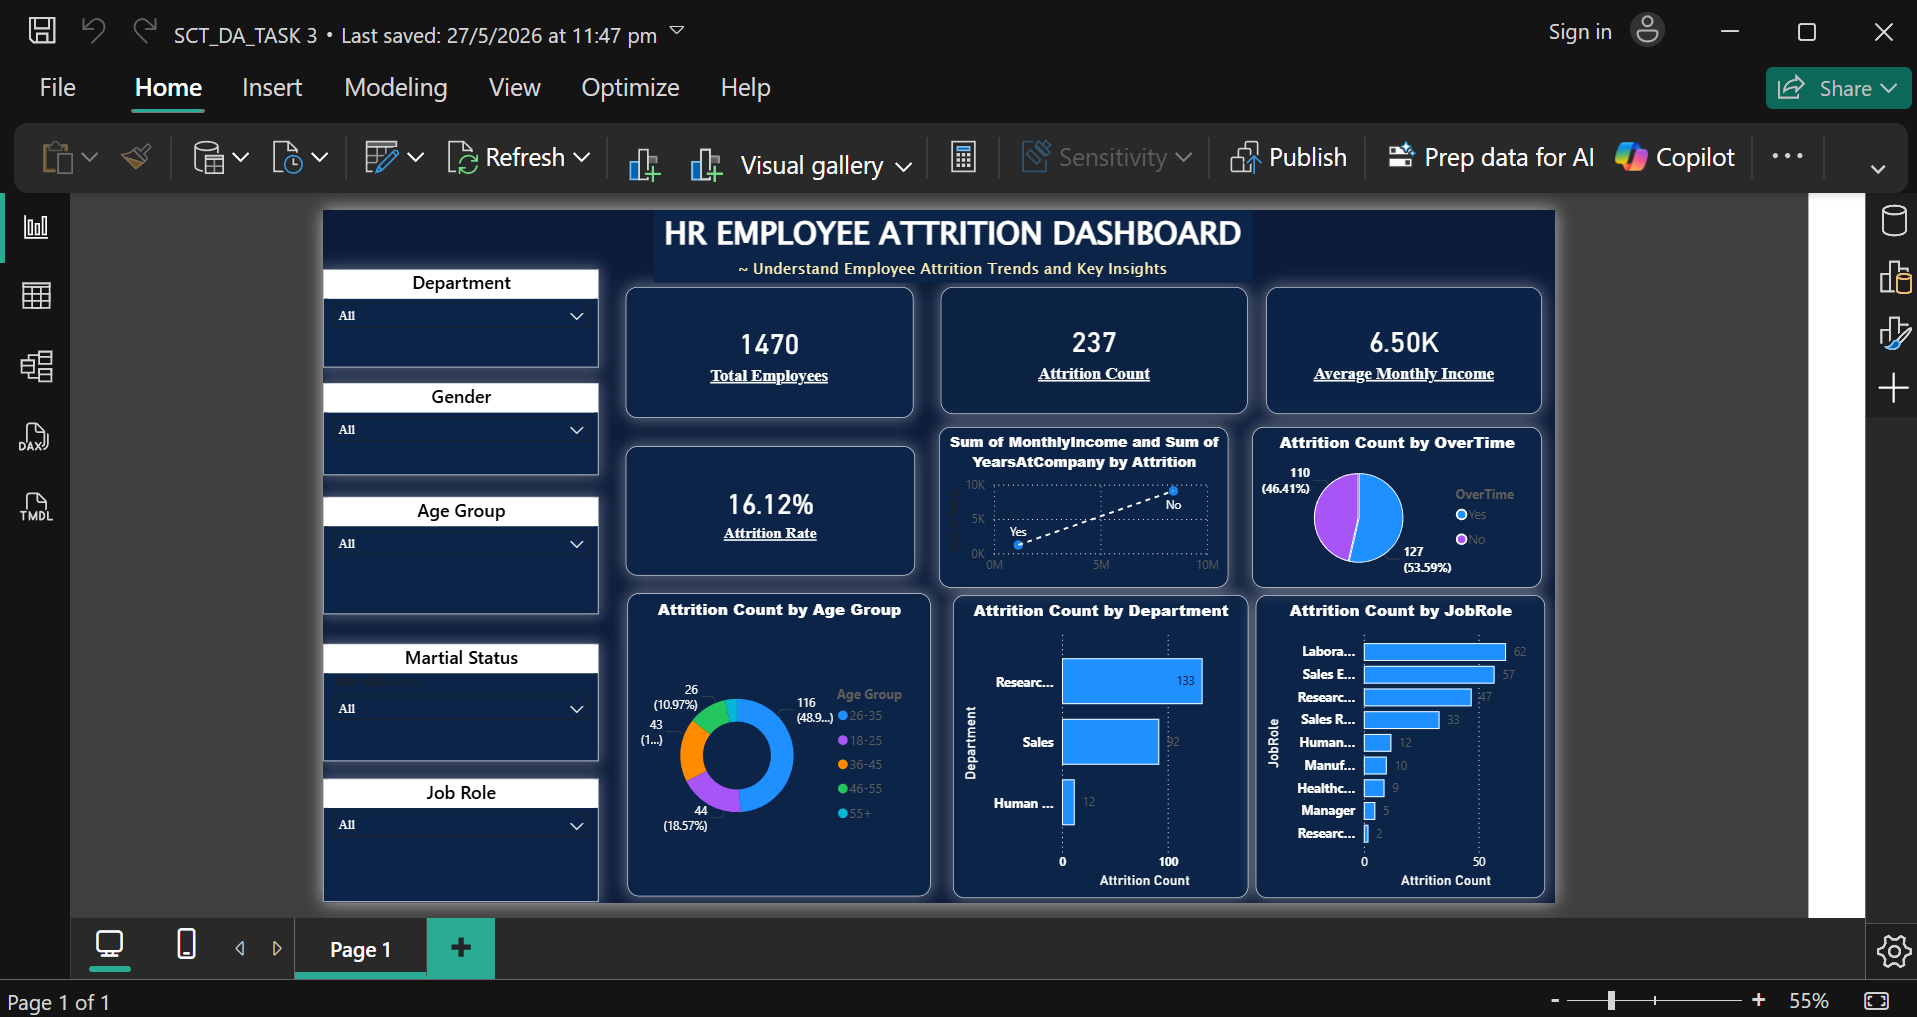

This screenshot's page, from the dashboard's own definition file:
{"tool":"powerbi","page":{"name":"Page 1","canvas":[1280,720],"ordinal":0},"visuals":[{"type":"card","title":"Total Employes","fields":{"Values":["WA_Fn-UseC_-HR-Employee-Attrition.Total Employees"]},"box":[314.9,79.2,298.6,136.1],"z":0},{"type":"card","fields":{"Values":["WA_Fn-UseC_-HR-Employee-Attrition.Attrition Count"]},"box":[641.9,79.2,318.9,132],"z":1000},{"type":"card","fields":{"Values":["WA_Fn-UseC_-HR-Employee-Attrition.Attrition Rate"]},"box":[314.9,245.8,300.7,134.1],"z":2000},{"type":"card","fields":{"Values":["WA_Fn-UseC_-HR-Employee-Attrition.Average Monthly Income"]},"box":[979.2,79.2,286.4,132],"z":3000},{"type":"clusteredBarChart","fields":{"Category":["WA_Fn-UseC_-HR-Employee-Attrition.Department"],"Y":["WA_Fn-UseC_-HR-Employee-Attrition.Attrition Count"]},"box":[654.1,400.2,306.8,314.9],"z":4000},{"type":"donutChart","fields":{"Category":["WA_Fn-UseC_-HR-Employee-Attrition.Age Group"],"Y":["WA_Fn-UseC_-HR-Employee-Attrition.Attrition Count"]},"box":[316.9,398.2,314.9,314.9],"z":5000},{"type":"clusteredBarChart","fields":{"Category":["WA_Fn-UseC_-HR-Employee-Attrition.JobRole"],"Y":["WA_Fn-UseC_-HR-Employee-Attrition.Attrition Count"]},"box":[969,400.2,300.7,314.9],"z":6000},{"type":"pieChart","fields":{"Category":["WA_Fn-UseC_-HR-Employee-Attrition.OverTime"],"Y":["WA_Fn-UseC_-HR-Employee-Attrition.Attrition Count"]},"box":[965,225.5,300.7,166.6],"z":7000},{"type":"scatterChart","fields":{"Category":["WA_Fn-UseC_-HR-Employee-Attrition.Attrition"],"X":["Sum(WA_Fn-UseC_-HR-Employee-Attrition.MonthlyIncome)"],"Y":["Sum(WA_Fn-UseC_-HR-Employee-Attrition.YearsAtCompany)"]},"box":[639.9,225.5,300.7,166.6],"z":8000},{"type":"slicer","title":"Department","fields":{"Values":["WA_Fn-UseC_-HR-Employee-Attrition.Department"]},"box":[0,60.9,286.4,101.6],"z":9000},{"type":"slicer","title":"Gender","fields":{"Values":["WA_Fn-UseC_-HR-Employee-Attrition.Gender"]},"box":[0,180.8,286.4,95.5],"z":10000},{"type":"slicer","title":"Age Group","fields":{"Values":["WA_Fn-UseC_-HR-Employee-Attrition.Age Group"]},"box":[0,298.6,286.4,121.9],"z":11000},{"type":"slicer","title":"Job Role","fields":{"Values":["WA_Fn-UseC_-HR-Employee-Attrition.JobRole"]},"box":[0,591.2,286.4,128],"z":12000},{"type":"slicer","title":"Martial Status","fields":{"Values":["WA_Fn-UseC_-HR-Employee-Attrition.MaritalStatus"]},"box":[0,451,286.4,121.9],"z":13000},{"type":"textbox","title":"HR EMPLOYEE ATTRITION DASHBOARD","box":[343.3,0,621.6,75.2],"z":14000}]}

Visuals, with their boxes on the page's 1280x720 design canvas (x1, y1, x2, y2). These are canvas units, not pixel positions in the 1917x1017 screenshot, which may show the page scaled, cropped or inside an application window:
"Total Employes" card: (315, 79, 614, 215)
card - WA_Fn-UseC_-HR-Employee-Attrition.Attrition Count: (642, 79, 961, 211)
card - WA_Fn-UseC_-HR-Employee-Attrition.Attrition Rate: (315, 246, 616, 380)
card - WA_Fn-UseC_-HR-Employee-Attrition.Average Monthly Income: (979, 79, 1266, 211)
clusteredBarChart - WA_Fn-UseC_-HR-Employee-Attrition.Department x WA_Fn-UseC_-HR-Employee-Attrition.Attrition Count: (654, 400, 961, 715)
donutChart - WA_Fn-UseC_-HR-Employee-Attrition.Age Group x WA_Fn-UseC_-HR-Employee-Attrition.Attrition Count: (317, 398, 632, 713)
clusteredBarChart - WA_Fn-UseC_-HR-Employee-Attrition.JobRole x WA_Fn-UseC_-HR-Employee-Attrition.Attrition Count: (969, 400, 1270, 715)
pieChart - WA_Fn-UseC_-HR-Employee-Attrition.OverTime x WA_Fn-UseC_-HR-Employee-Attrition.Attrition Count: (965, 226, 1266, 392)
scatterChart - WA_Fn-UseC_-HR-Employee-Attrition.Attrition x Sum(WA_Fn-UseC_-HR-Employee-Attrition.MonthlyIncome): (640, 226, 941, 392)
"Department" slicer: (0, 61, 286, 162)
"Gender" slicer: (0, 181, 286, 276)
"Age Group" slicer: (0, 299, 286, 420)
"Job Role" slicer: (0, 591, 286, 719)
"Martial Status" slicer: (0, 451, 286, 573)
"HR EMPLOYEE ATTRITION DASHBOARD" textbox: (343, 0, 965, 75)
